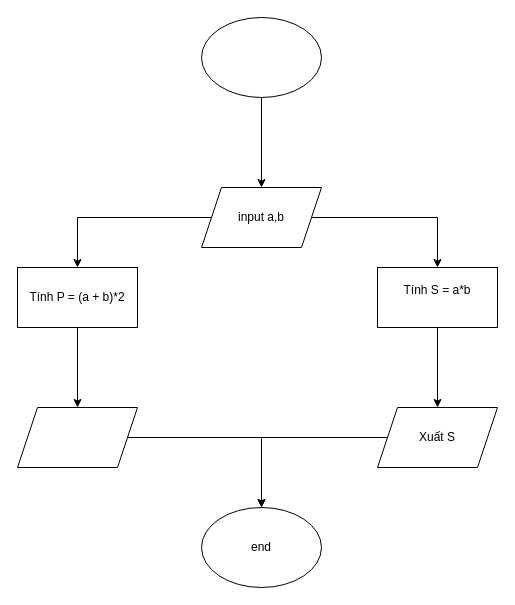
This 515x605 diagram has some shape labels left out. The box of each missing label's shape, as (x1, y1, x2, y2) in pixels:
start: (200, 16, 322, 98)
Xuất P: (16, 406, 138, 468)
